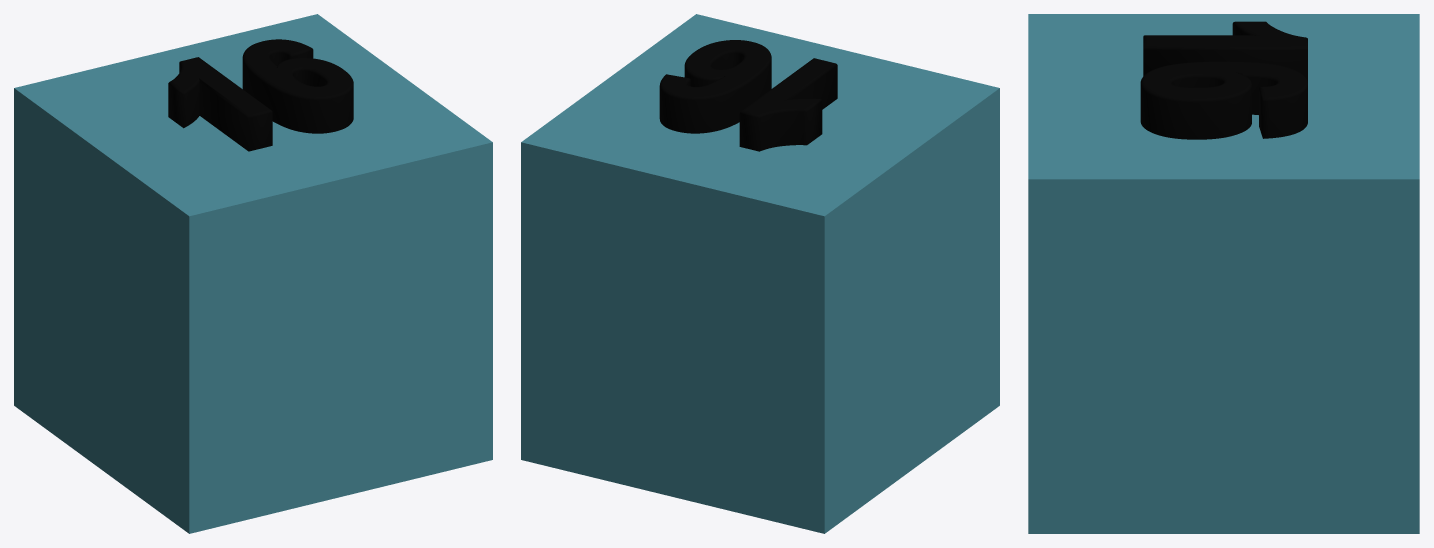
Rendered from level16.fbx.
The picture shows the model from 3 angles, left to right: view 1: azimuth 30°, elevation 25°; view 2: azimuth 150°, elevation 25°; view 3: azimuth 270°, elevation 25°; orthographic projection. The views are drawn at different scales.
Parts seen in each view (by area): view 1: Text; view 2: Text; view 3: Text.
Boxes of the visible parts, bbox=[...] form: Text: bbox=[14, 14, 492, 533]; Text: bbox=[521, 14, 999, 533]; Text: bbox=[1028, 14, 1419, 533].
Size of the model in its own units: 200 by 223 by 200.
